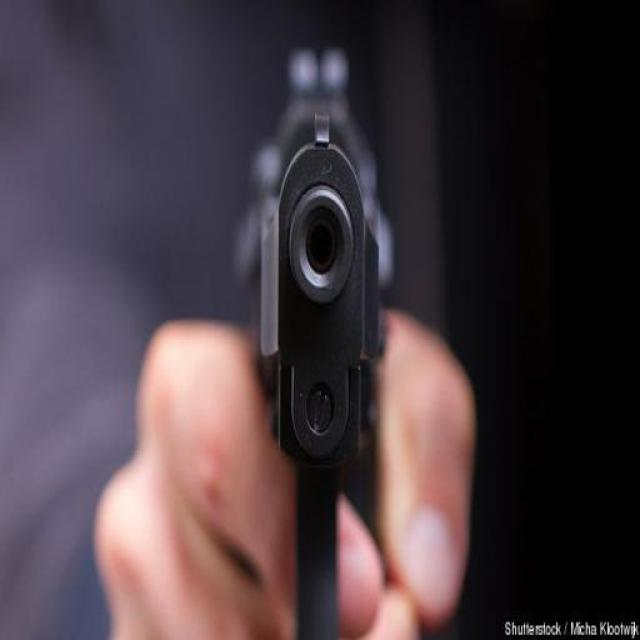pistol: (243, 44, 398, 640)
